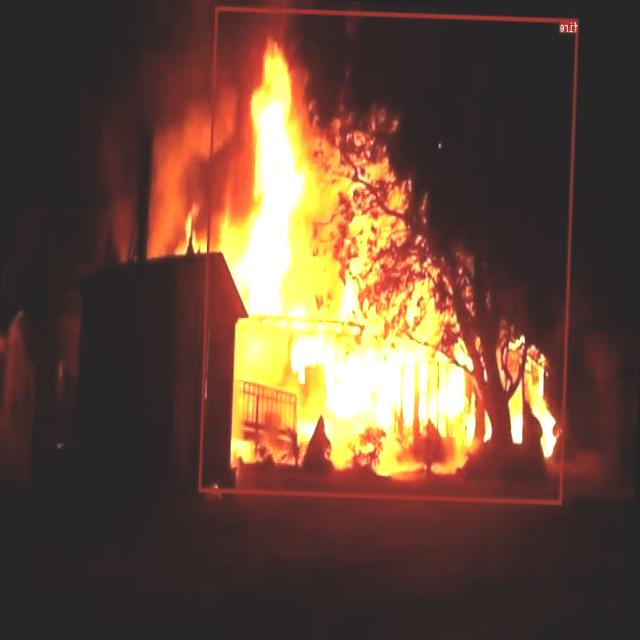fire: (199, 6, 579, 503)
